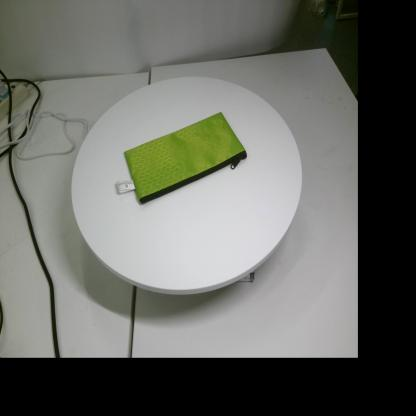Stationery: (117, 112, 247, 204)
